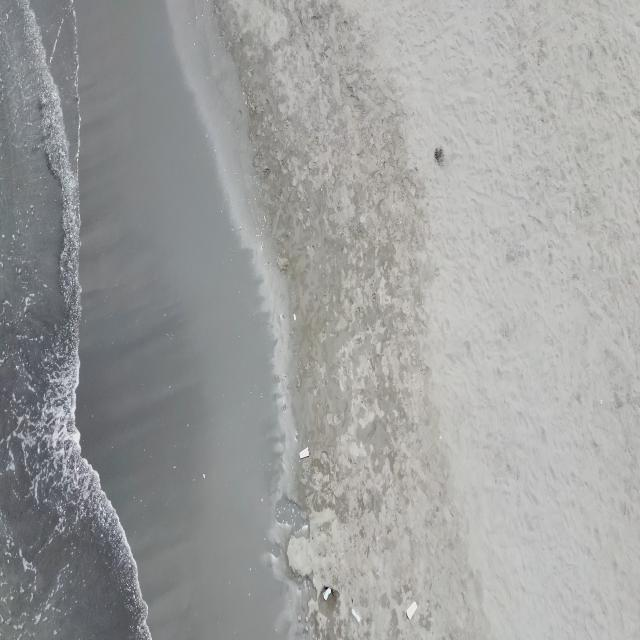takeaway-cup: (406, 601, 417, 620), (352, 608, 361, 625), (299, 446, 310, 459), (323, 588, 331, 602)
